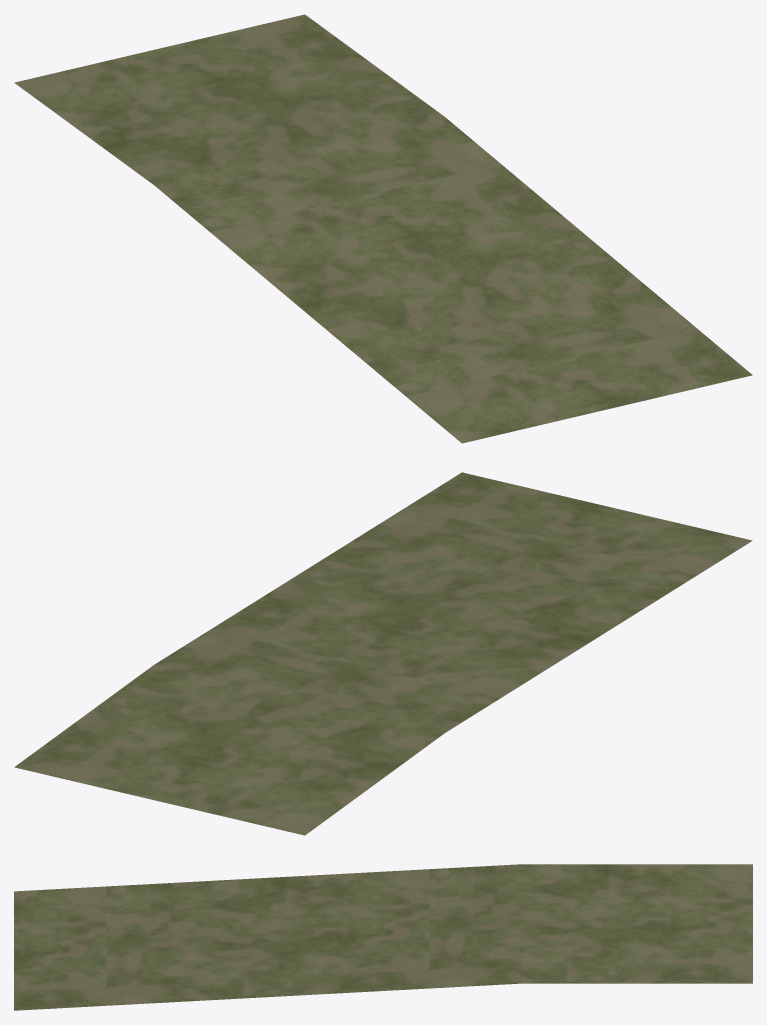
File: -5_0_c5735079aeb4.glb
The picture shows the model from 3 angles, top to bottom: view 1: azimuth 30°, elevation 25°; view 2: azimuth 150°, elevation 25°; view 3: azimuth 270°, elevation 25°; orthographic projection. The views are drawn at different scales.
Size of the model in its own units: 6 by 0.703 by 16.
1 material, 1 textured.
